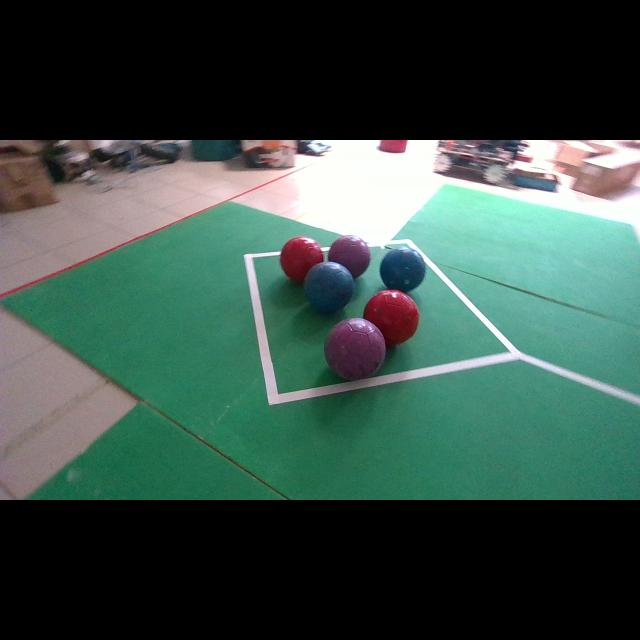B: (304, 261, 354, 312), (380, 249, 425, 292)
P: (324, 318, 385, 380), (329, 235, 371, 278)
R: (364, 289, 419, 346), (280, 236, 324, 282)
